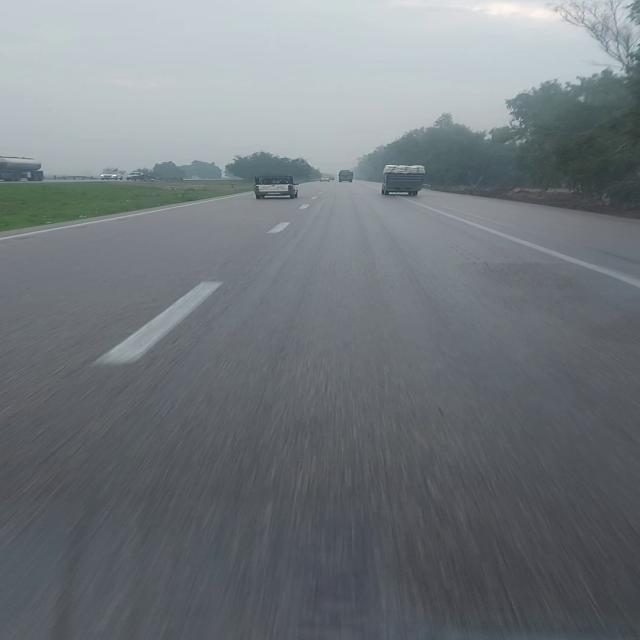Pickup: (375, 162, 441, 202), (248, 171, 304, 200)
